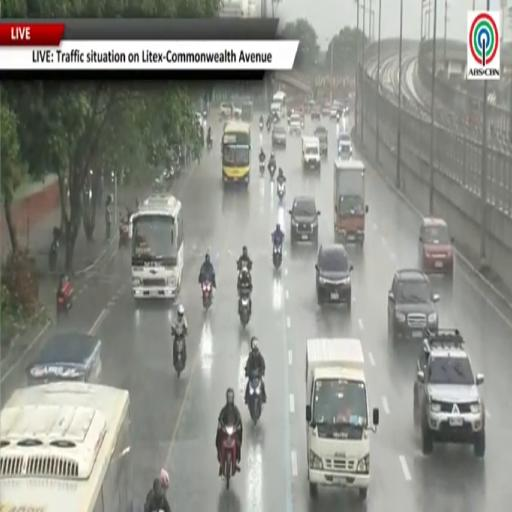bus: (0, 382, 133, 511), (132, 195, 184, 299), (222, 122, 250, 186), (242, 101, 253, 123)
car: (414, 329, 485, 457), (388, 269, 440, 340), (315, 245, 353, 311), (419, 217, 453, 276), (289, 196, 320, 245), (314, 125, 328, 156), (338, 133, 352, 158), (272, 124, 286, 148), (289, 114, 301, 135), (220, 103, 232, 118), (330, 102, 341, 118), (310, 105, 321, 120), (304, 99, 315, 113), (322, 104, 330, 116)
motorcycle: (221, 425, 239, 489), (248, 372, 262, 425), (57, 282, 73, 321), (173, 329, 185, 377), (239, 294, 250, 328), (119, 216, 130, 248), (49, 240, 59, 271), (202, 281, 212, 310), (273, 245, 282, 269), (277, 182, 285, 200), (268, 164, 276, 179), (259, 162, 264, 174), (207, 138, 212, 150), (267, 121, 272, 132), (259, 122, 264, 131), (301, 119, 304, 129)
truck: (306, 339, 379, 499), (334, 159, 368, 245), (302, 136, 320, 170)
